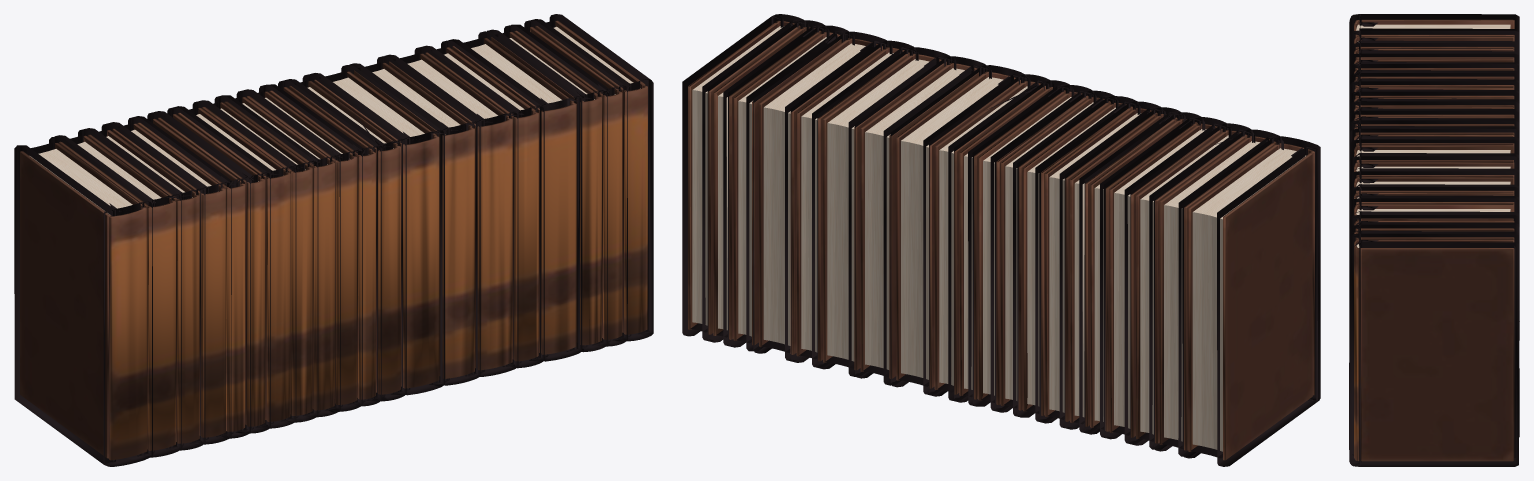
Rendered from SM_Int_Books.fbx.
The picture shows the model from 3 angles, left to right: view 1: azimuth 30°, elevation 25°; view 2: azimuth 150°, elevation 25°; view 3: azimuth 270°, elevation 25°; orthographic projection. The views are drawn at different scales.
Visible parts, largest first — view 1: SM_Int_Books; view 2: SM_Int_Books; view 3: SM_Int_Books.
Boxes of the visible parts, x1,y1,x2,y2 form: SM_Int_Books: (14,14,653,466); SM_Int_Books: (682,14,1320,466); SM_Int_Books: (1349,14,1519,466).
Size of the model in its own units: 0.5091 by 0.2262 by 0.1572.
